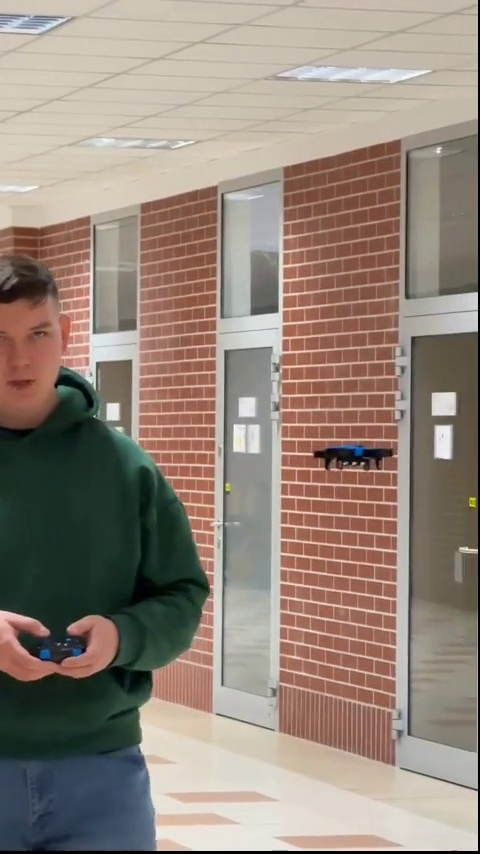drone: (305, 443, 395, 468)
no vest: (0, 251, 209, 854)
